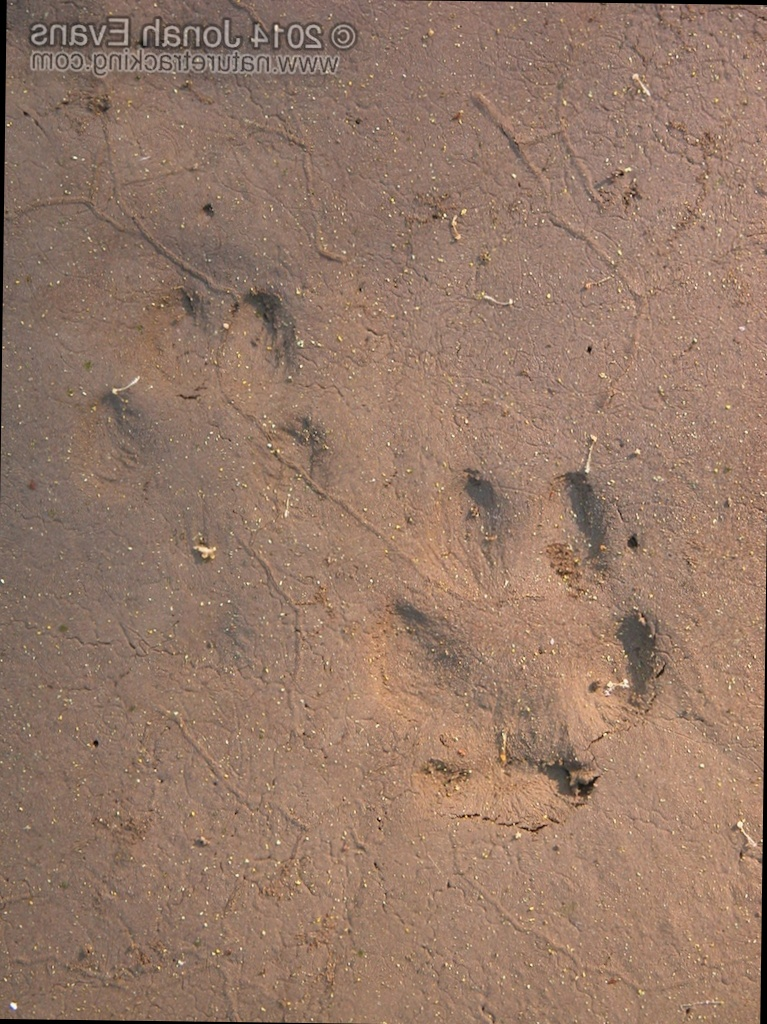fox: (308, 456, 706, 890)
